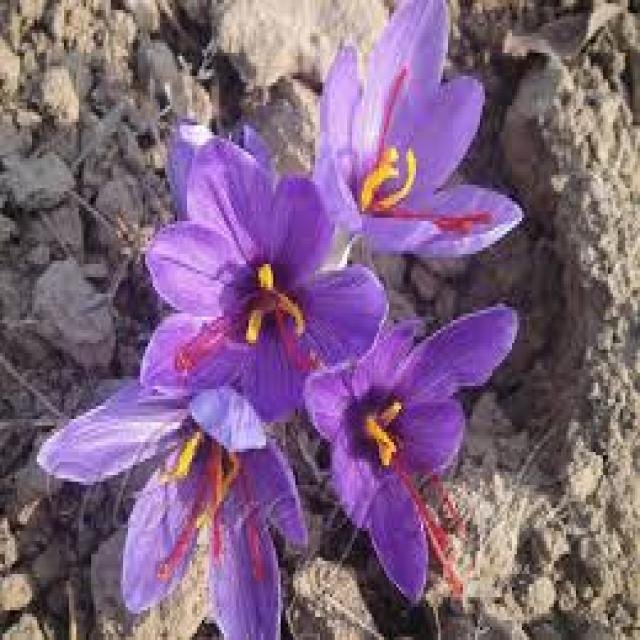Flower: (148, 84, 377, 426), (34, 359, 304, 640), (305, 311, 522, 596), (304, 31, 528, 258)
stigma: (390, 452, 468, 596), (361, 55, 414, 161), (236, 461, 272, 586), (177, 306, 236, 367), (201, 438, 227, 571), (367, 209, 493, 230), (155, 515, 195, 577)
